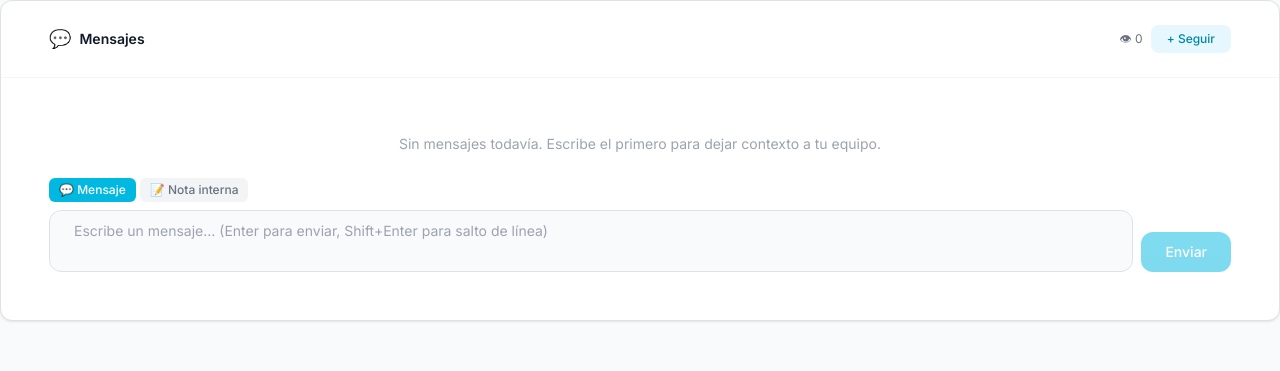
Test: Chatter (hilo de mensajes del documento) › muestra error si el envío falla
Replace the text in the text box with placeholder "Escribe un mensaje" with "algo" at (591, 241), box [49, 210, 1133, 272]
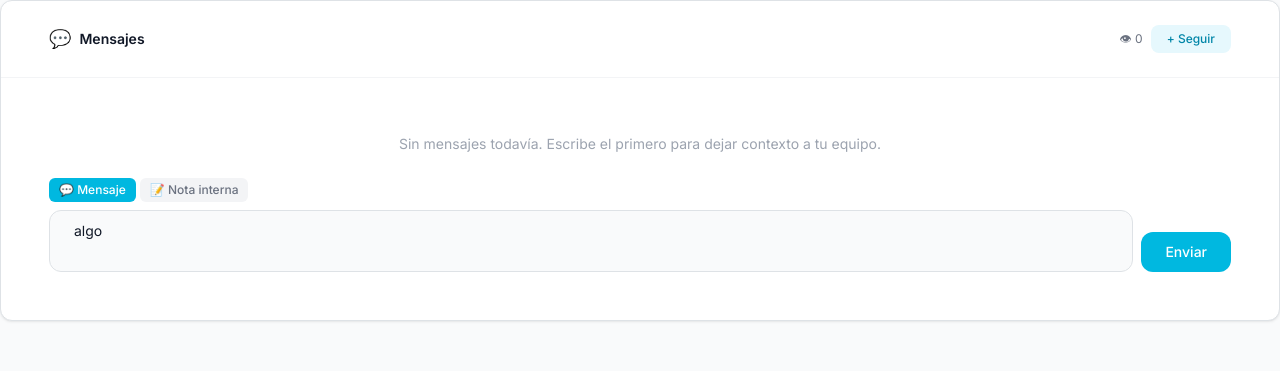
Click the button "Enviar" at (1186, 252), box [1141, 232, 1231, 272]
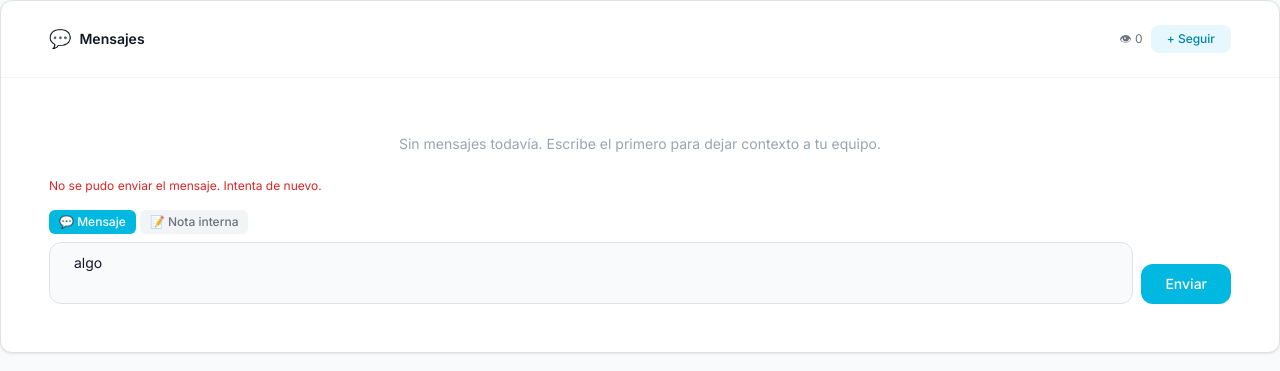
Result: the text "No se pudo enviar el mensaje. Intenta de nuevo." is shown at [49, 178, 322, 193]
